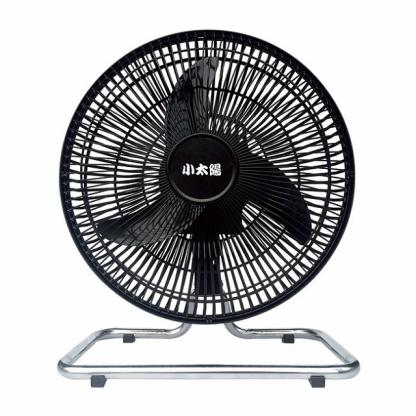fan: (56, 21, 371, 399)
